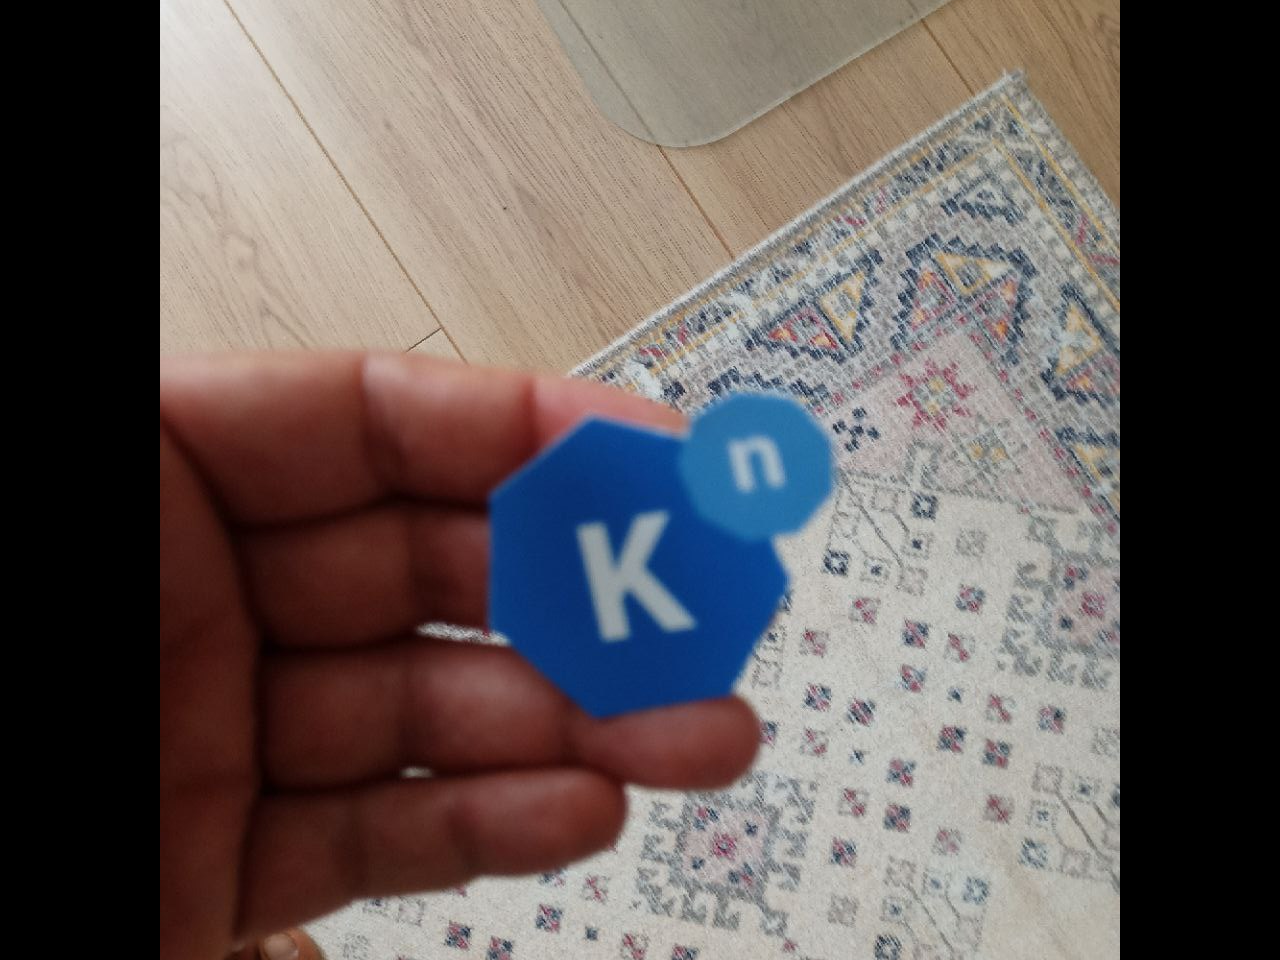knative: (488, 388, 837, 727)
